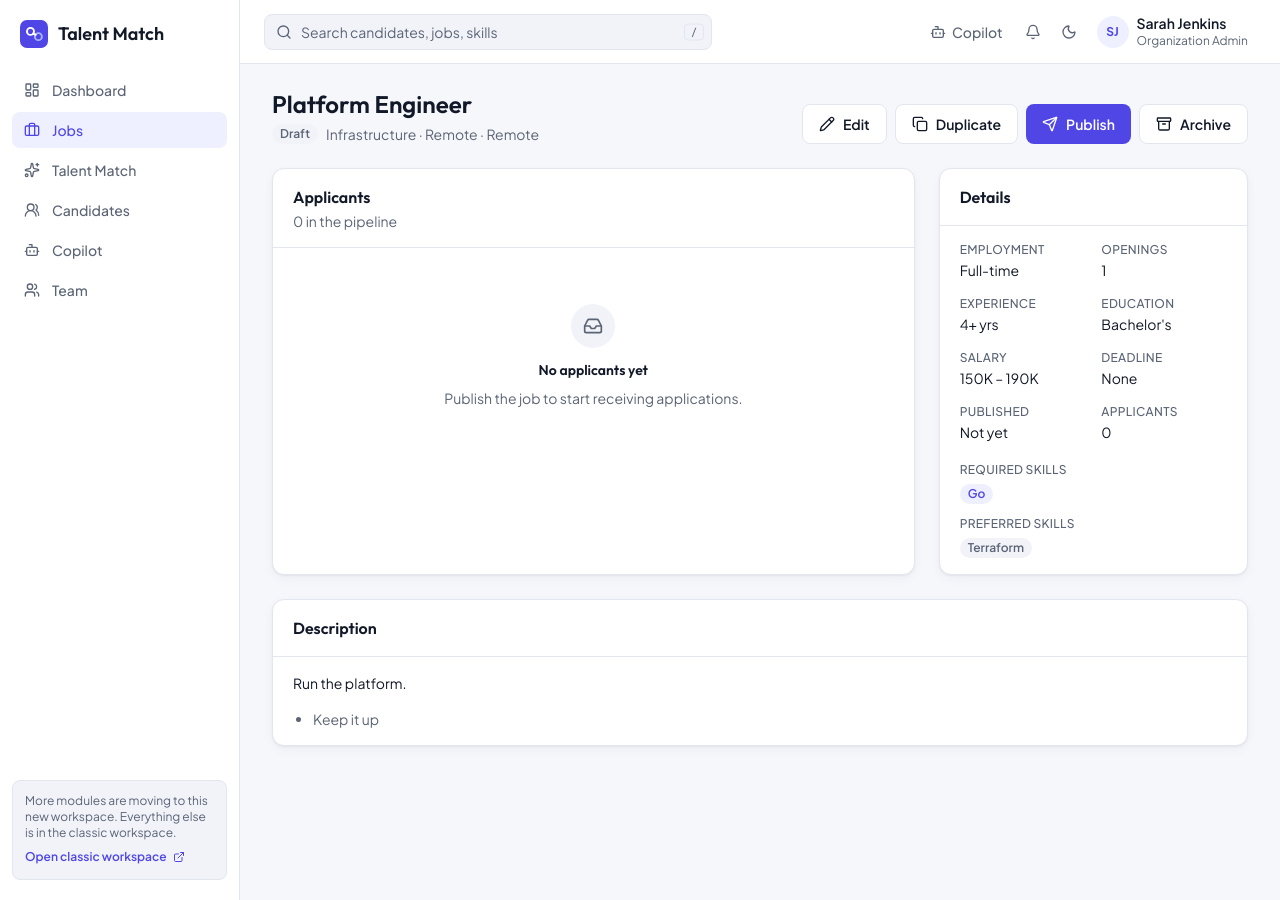
Scenario: job detail › offers lifecycle actions that fit the status
This screenshot has width=1280, height=900.
Expected: the text "Draft" is shown, x1=272 y1=124 x2=318 y2=144
Expected: the button "Close" is not shown
Click the button "Publish".
click(1079, 124)  # box x1=1026 y1=104 x2=1131 y2=144
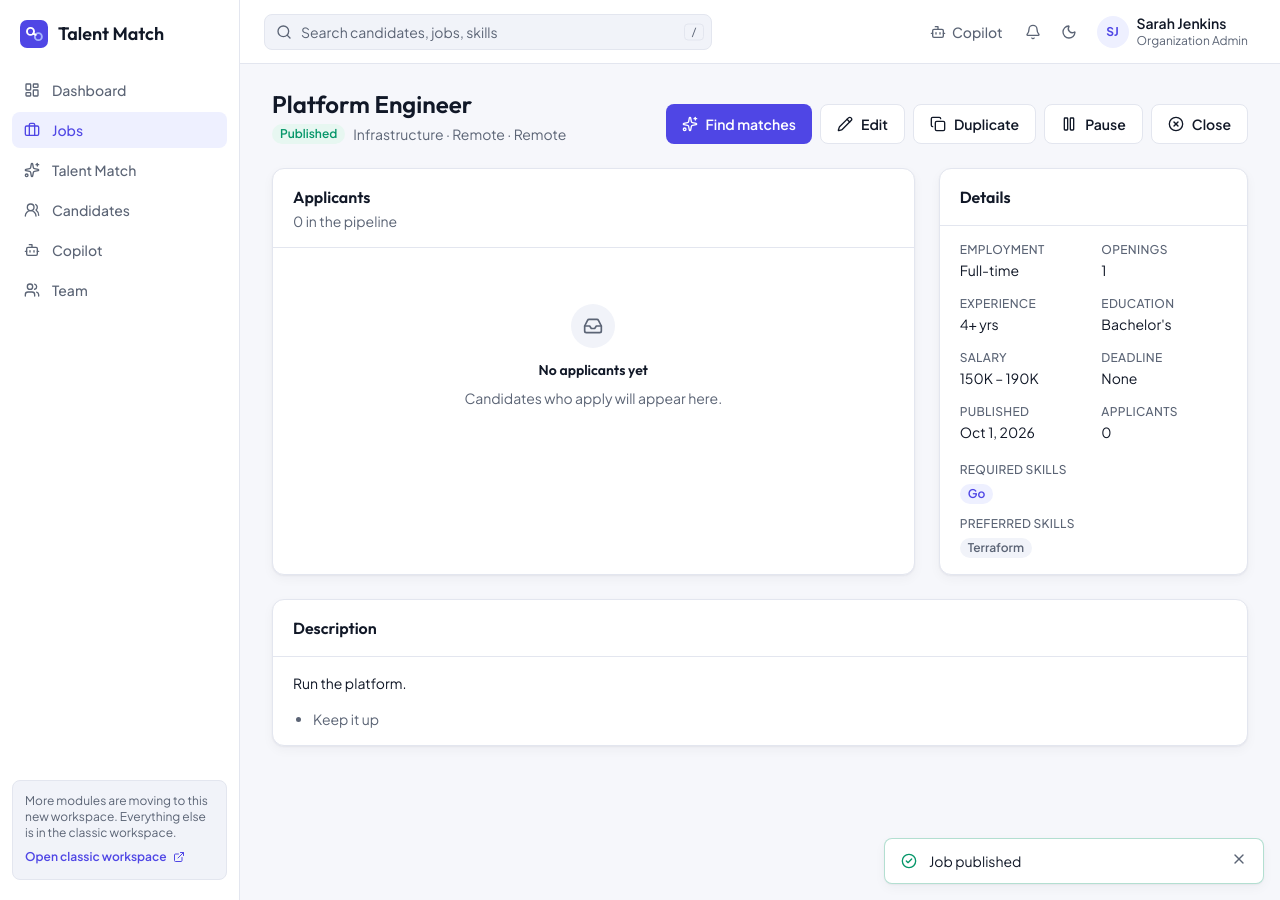
Now the text "Job published" is shown, box x1=929 y1=852 x2=1022 y2=870
Now the button "Close" is shown, box x1=1151 y1=104 x2=1248 y2=144
